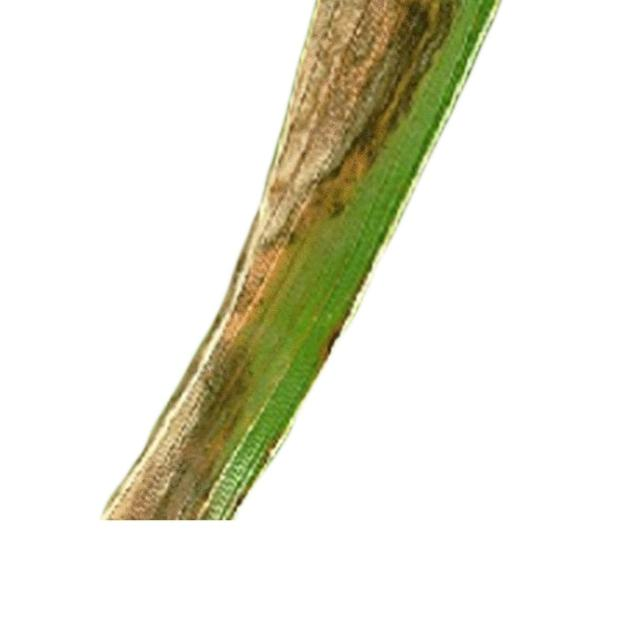Leaf scald: (98, 0, 551, 606)
